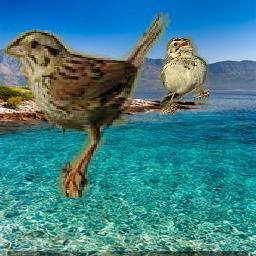Sparrow: (3, 12, 172, 198), (161, 37, 210, 116)
